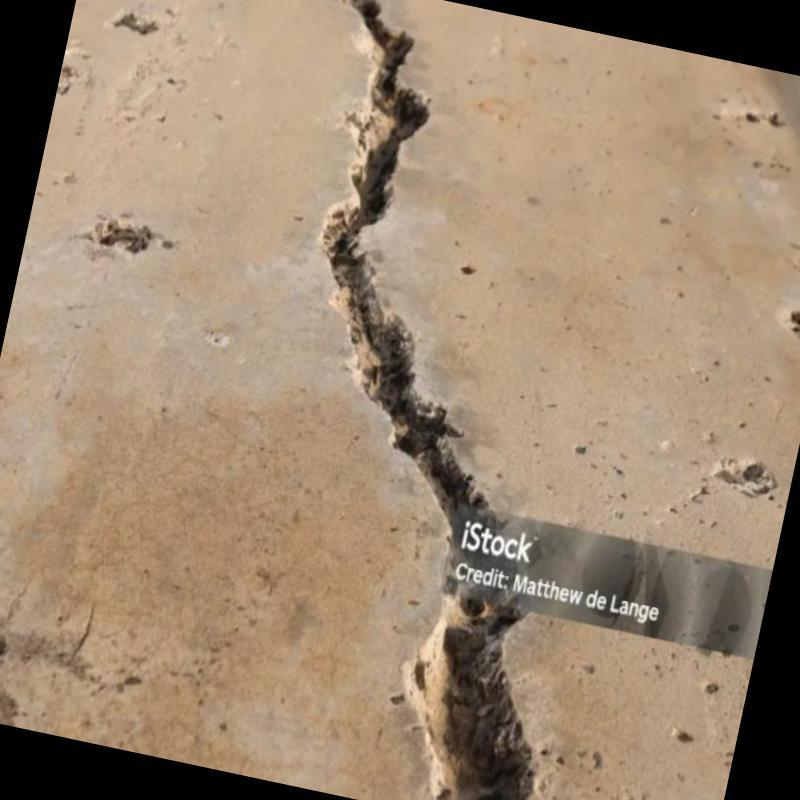pothole: (322, 0, 533, 800)
